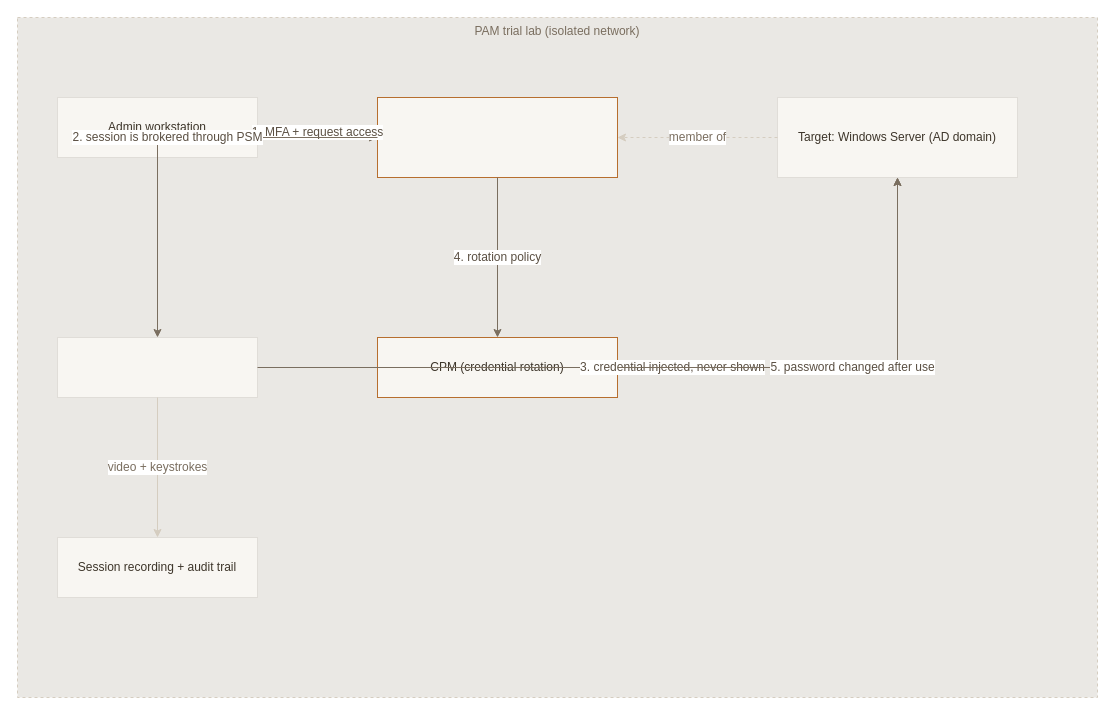
This 1115x715 diagram has some shape labels left out. Each missing label, with the centre of its shape:
"PSM (session proxy)" belongs at pixel 157 367.
"Vault / PVWA (CyberArk trial)" belongs at pixel 497 137.
